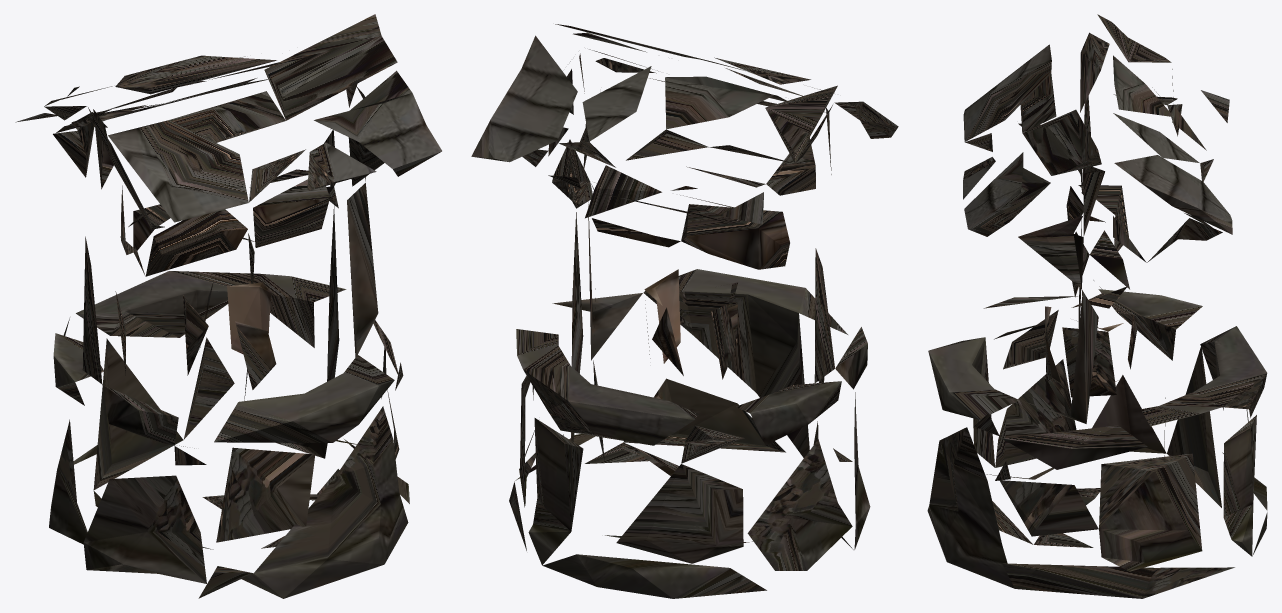
The model's file is prp_well_a_LOD2.glb.
The picture shows the model from 3 angles, left to right: view 1: azimuth 30°, elevation 25°; view 2: azimuth 150°, elevation 25°; view 3: azimuth 270°, elevation 25°; orthographic projection. The views are drawn at different scales.
Parts seen in each view (by area): view 1: geometry_0; view 2: geometry_0; view 3: geometry_0.
Boxes of the visible parts, x1,y1,x2,y2 form: geometry_0: [15, 14, 441, 598]; geometry_0: [471, 24, 898, 598]; geometry_0: [927, 14, 1267, 598].
Bounding box in the file's own units: 2.07 × 3 × 2.07.
Materials: 1 (1 with a texture image).
